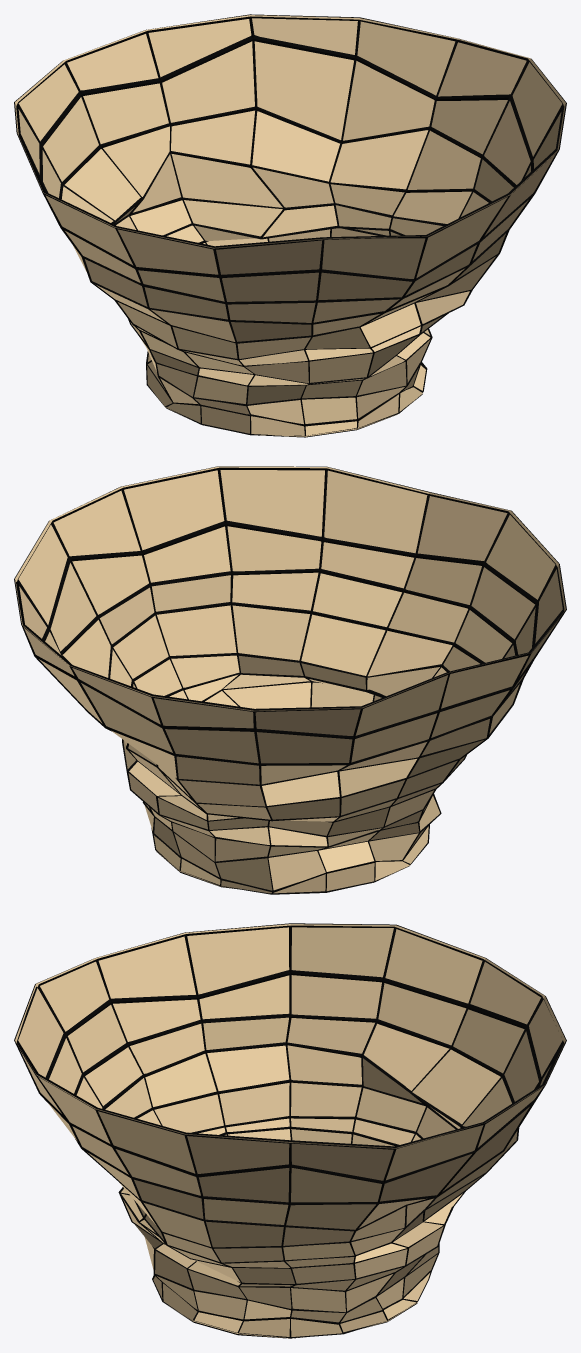
3 renders of one model, top to bottom at view 1: azimuth 30°, elevation 25°; view 2: azimuth 150°, elevation 25°; view 3: azimuth 270°, elevation 25°, orthographic. The views are drawn at different scales.
Parts seen in each view (by area): view 1: Cylinder; view 2: Cylinder; view 3: Cylinder.
Part boxes in pixels (<box>): Cylinder: <box>14,14,566,437</box>; Cylinder: <box>14,466,566,894</box>; Cylinder: <box>14,923,566,1338</box>.
Bounding box in the file's own units: 4.01 × 2.05 × 4.01.
